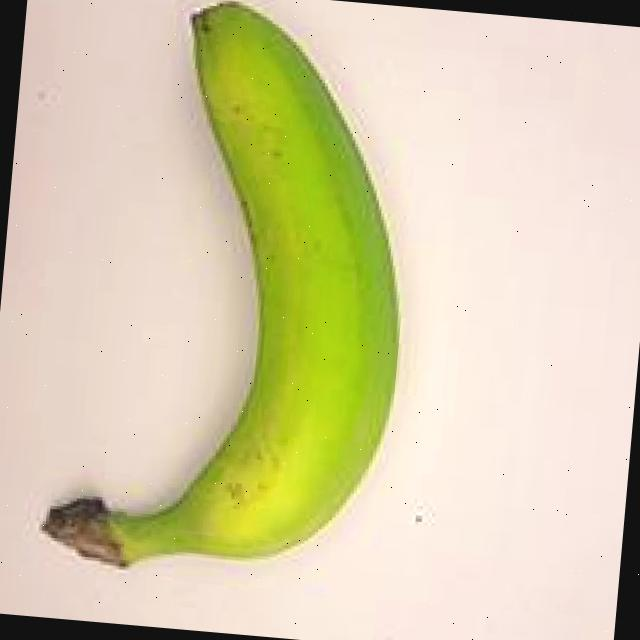Unripe: (0, 0, 455, 622)
